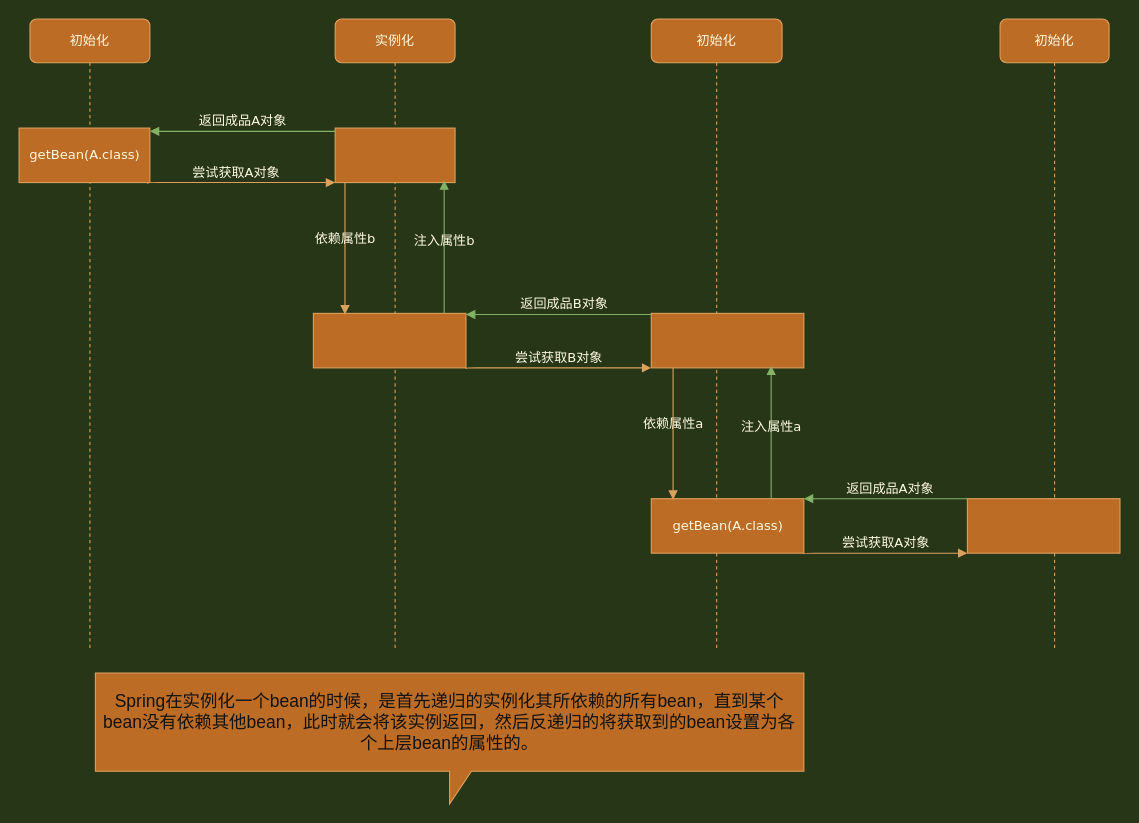
This 1139x823 diagram has some shape labels left out. The centre of each missing label's shape, as x and y in pixels:
"getBean(B.class)" belongs at [389,340].
"实例化A对象" belongs at [394,155].
"实例化B对象" belongs at [727,340].
"将第二步中实例化的A 对象直接返回" belongs at [1043,525].
